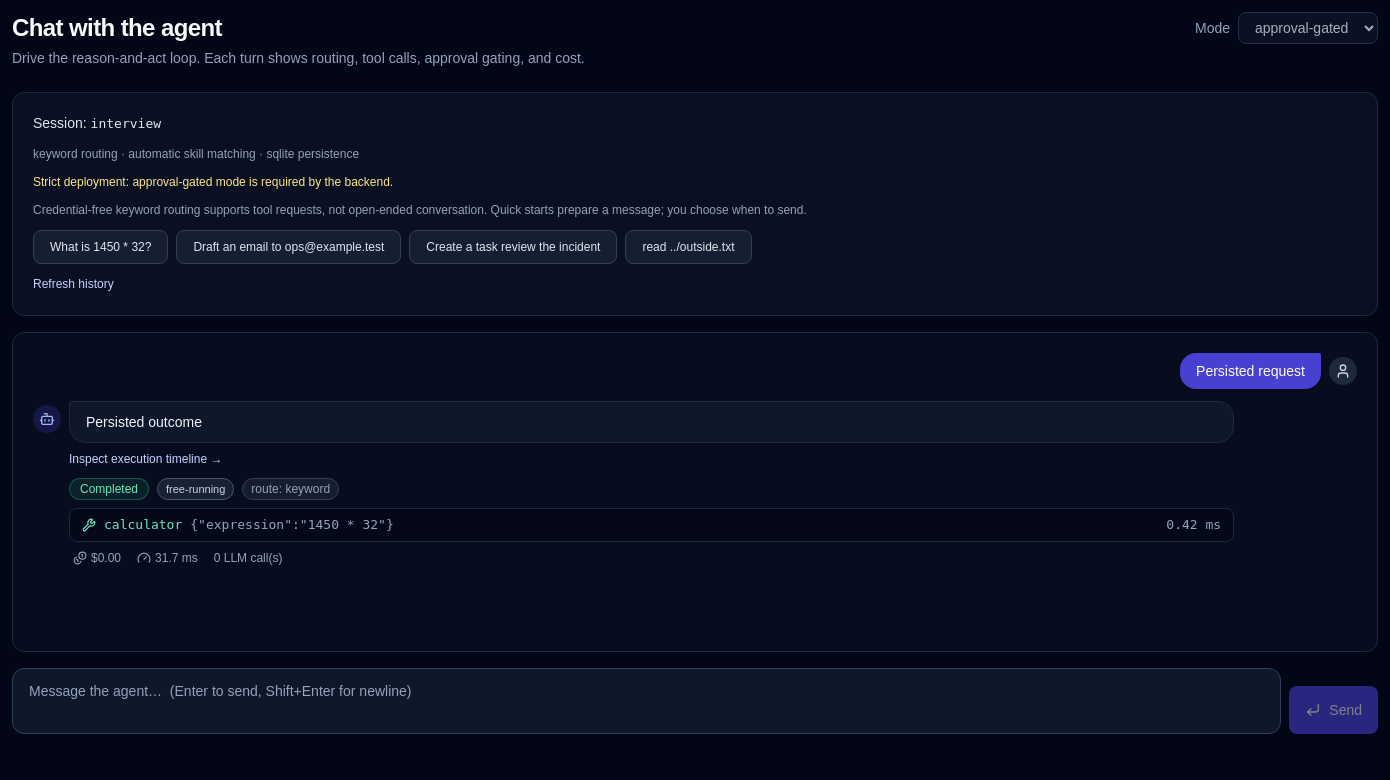
connected workspace state › rehydrates real history, uses session identity and locks strict mode
The image size is (1390, 780).
Expected: the text "Persisted outcome" is shown, [86, 414, 202, 430]
Expected: the dropdown labelled "Mode" is disabled, [1238, 12, 1378, 44]
Click the button "read ../outside.txt".
click(688, 247)  # box [625, 230, 752, 264]
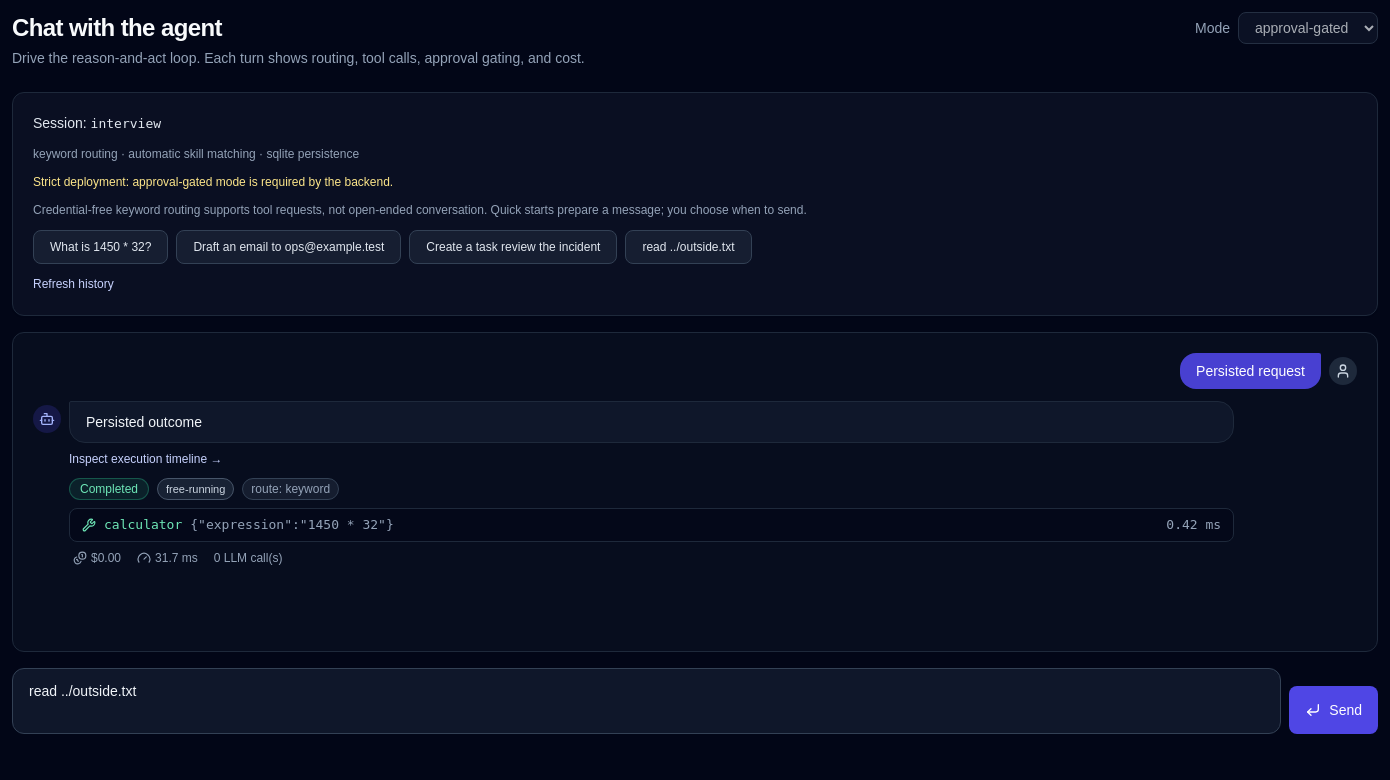
Now the text box named "Message the agent" holds "read ../outside.txt", box [12, 668, 1281, 734]
